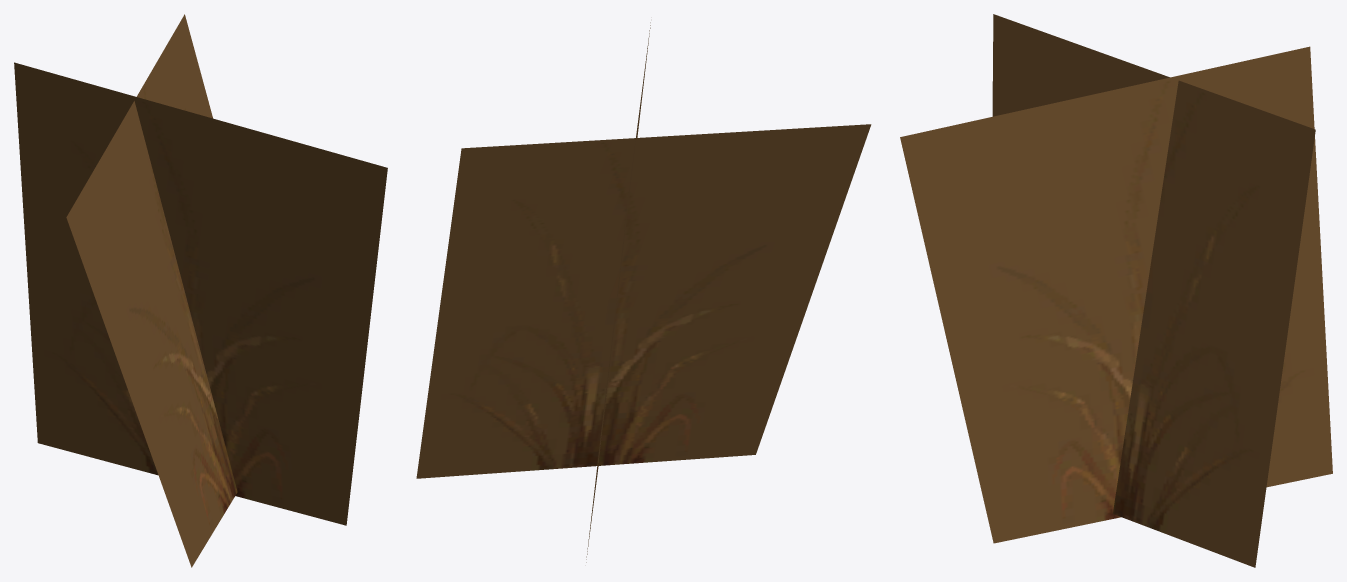
File: xy_plant04.FBX
3 views of the same model, side by side, from view 1: azimuth 30°, elevation 25°; view 2: azimuth 150°, elevation 25°; view 3: azimuth 270°, elevation 25° (orthographic). The views are drawn at different scales.
Visible parts, largest first — view 1: xy_plant04; view 2: xy_plant04; view 3: xy_plant04.
Boxes of the visible parts, x1,y1,x2,y2 form: xy_plant04: (14, 14, 387, 567); xy_plant04: (416, 22, 871, 562); xy_plant04: (900, 14, 1332, 567).
Bounding box in the file's own units: 61.39 × 66.98 × 63.51.
